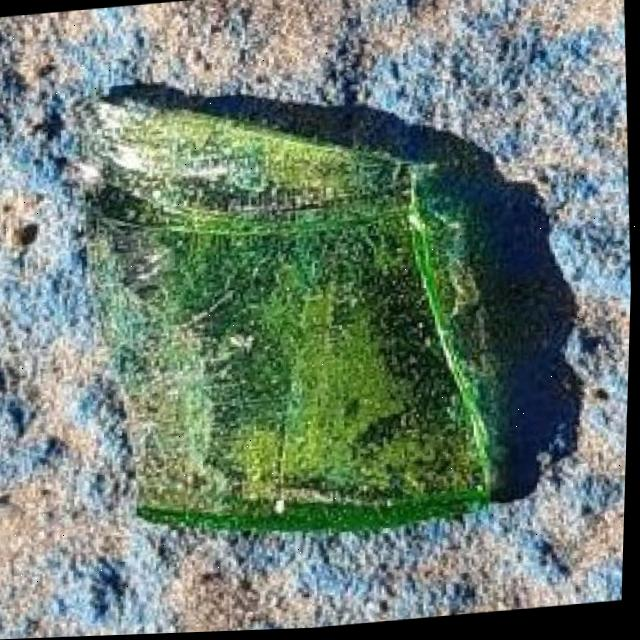Dry: (106, 60, 515, 549)
